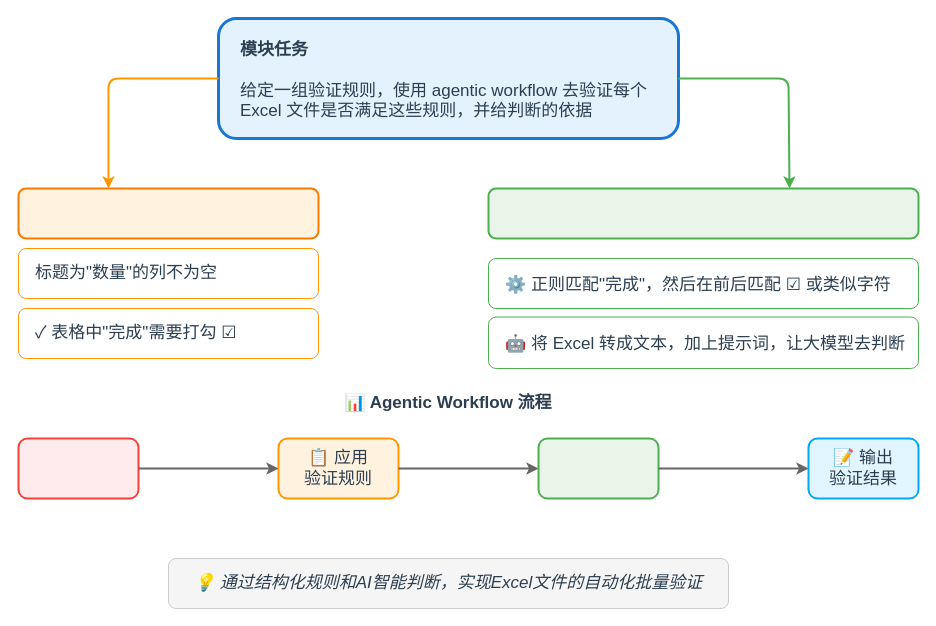
Some shapes in this 936 by 626 pixel diagram are drawn without their labels. Each missing label, with the box of its shape:
📁 输入 Excel 文件: (17, 437, 139, 499)
📋 规则举例: (17, 187, 319, 239)
🔧 技术手段: (487, 187, 919, 239)
🤖 AI 分析 判断: (537, 437, 659, 499)
